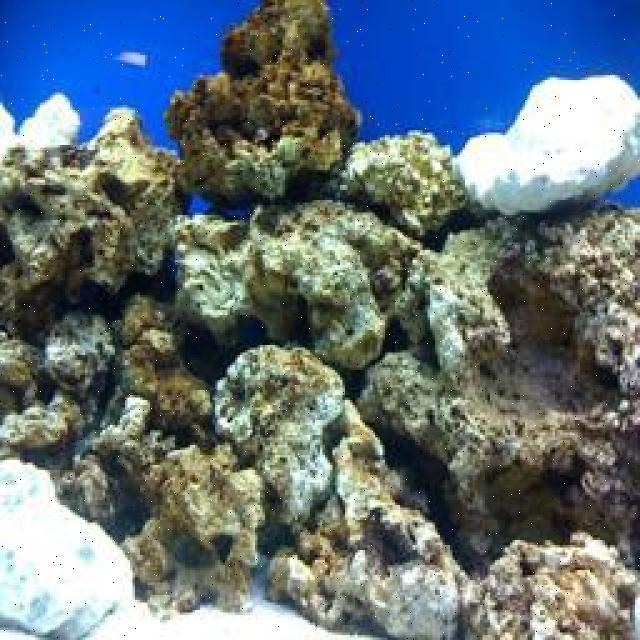reefs: (457, 76, 638, 215), (0, 458, 133, 638), (0, 95, 82, 158)
sea-floor: (0, 1, 638, 638)
